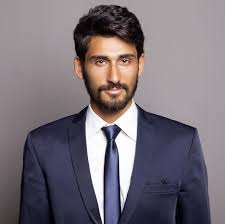middle_eastern_male: (77, 1, 145, 108)
